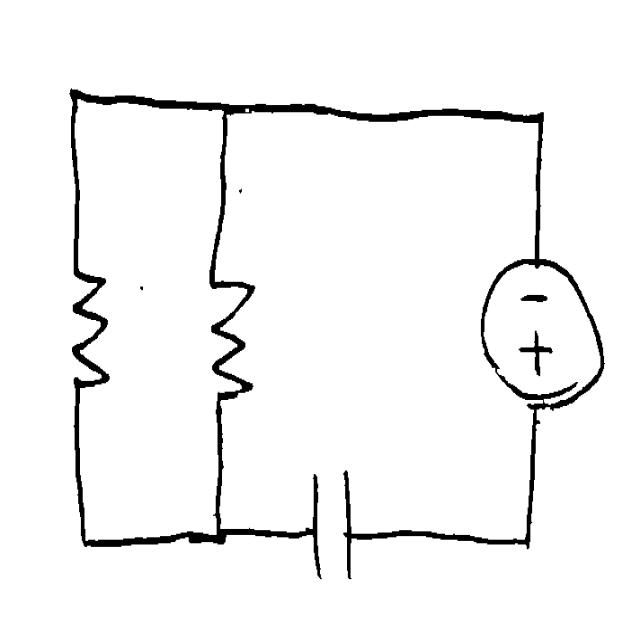capacitor: (291, 452, 374, 596)
dc: (472, 248, 609, 414)
resistor: (190, 249, 271, 426), (57, 240, 119, 414)
